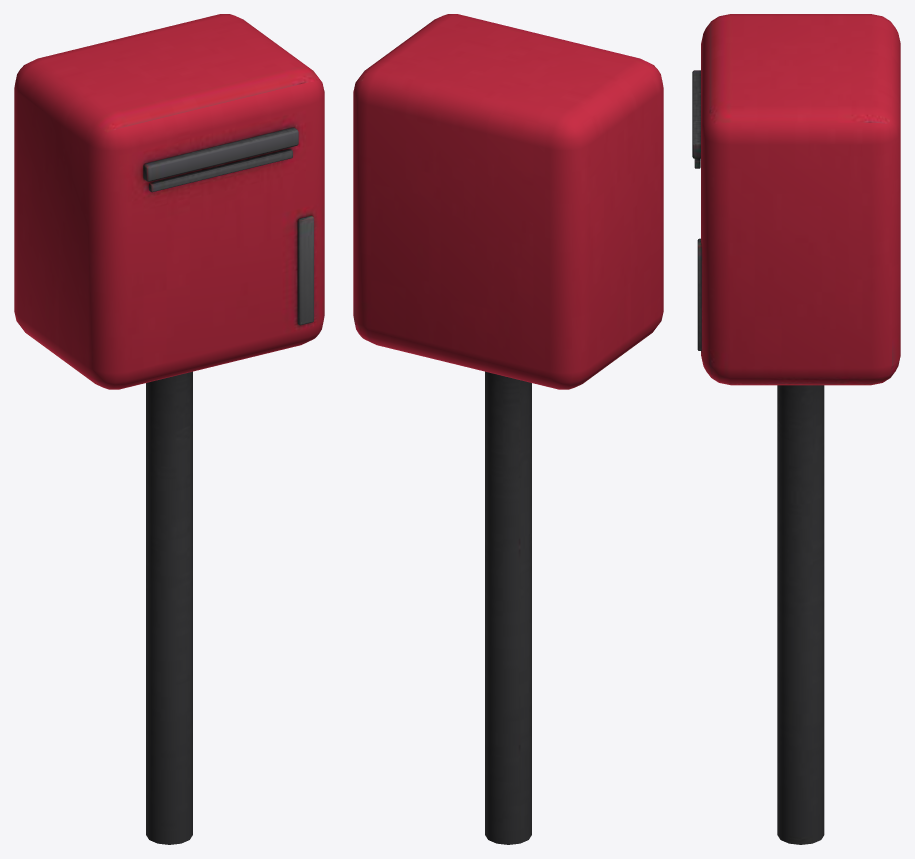
File: mailbox.glb
3 renders of one model, left to right at view 1: azimuth 30°, elevation 25°; view 2: azimuth 150°, elevation 25°; view 3: azimuth 270°, elevation 25°, orthographic.
Visible parts, largest first — view 1: body; view 2: body; view 3: body.
Part boxes in pixels (box(x1,y1,x2,y2)): body: box(14, 14, 324, 844); body: box(353, 14, 663, 844); body: box(692, 14, 900, 844).
Bounding box in the file's own units: 0.46 × 1.46 × 0.355.
1 material, 1 textured.
